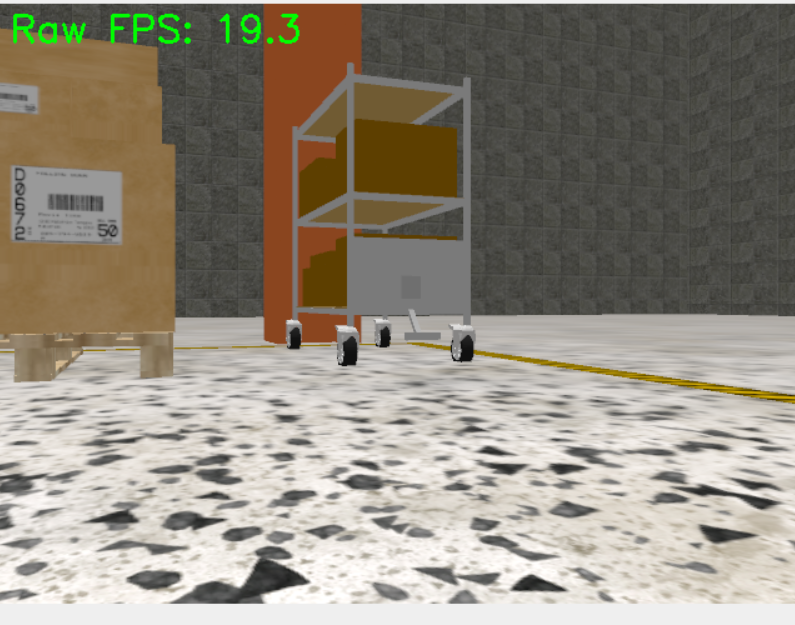barcode: (10, 164, 123, 246)
